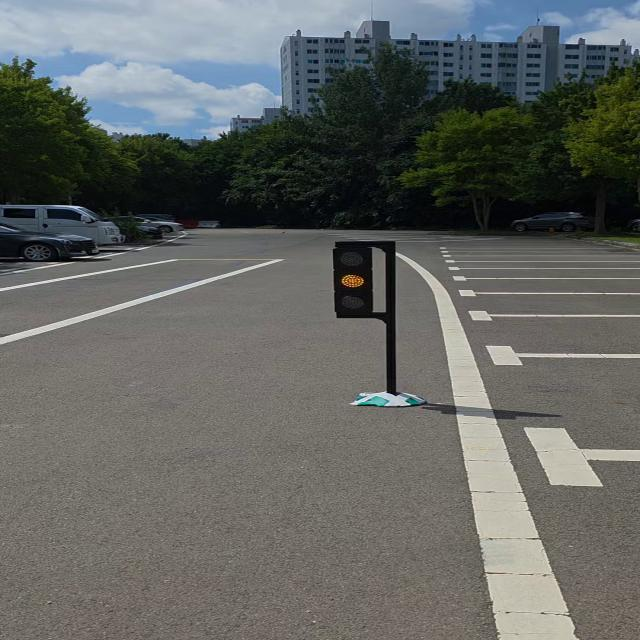yellow: (326, 237, 379, 321)
